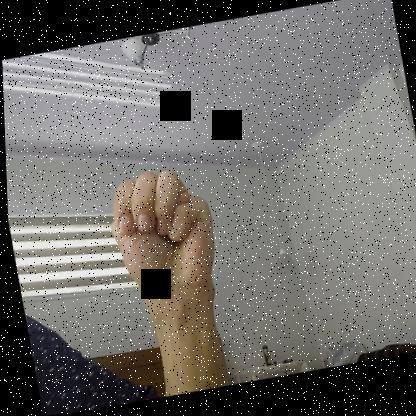M: (98, 162, 226, 308)
